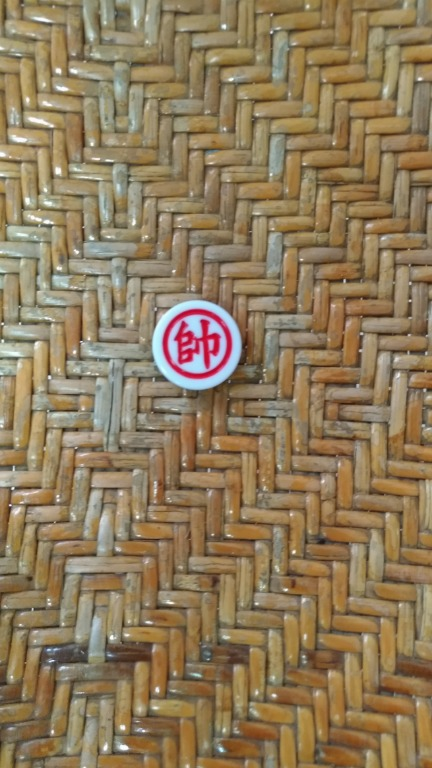r-king: (142, 295, 254, 395)
